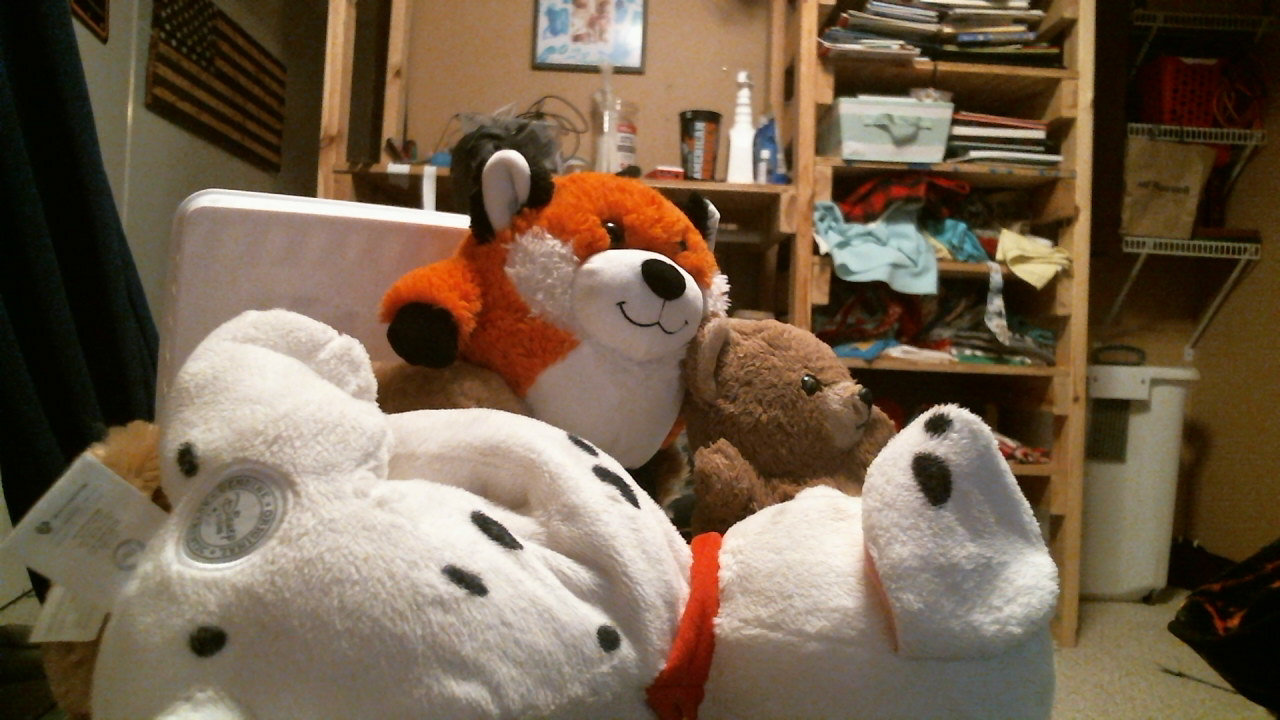Little_Mister_Bear: (773, 377, 883, 448)
